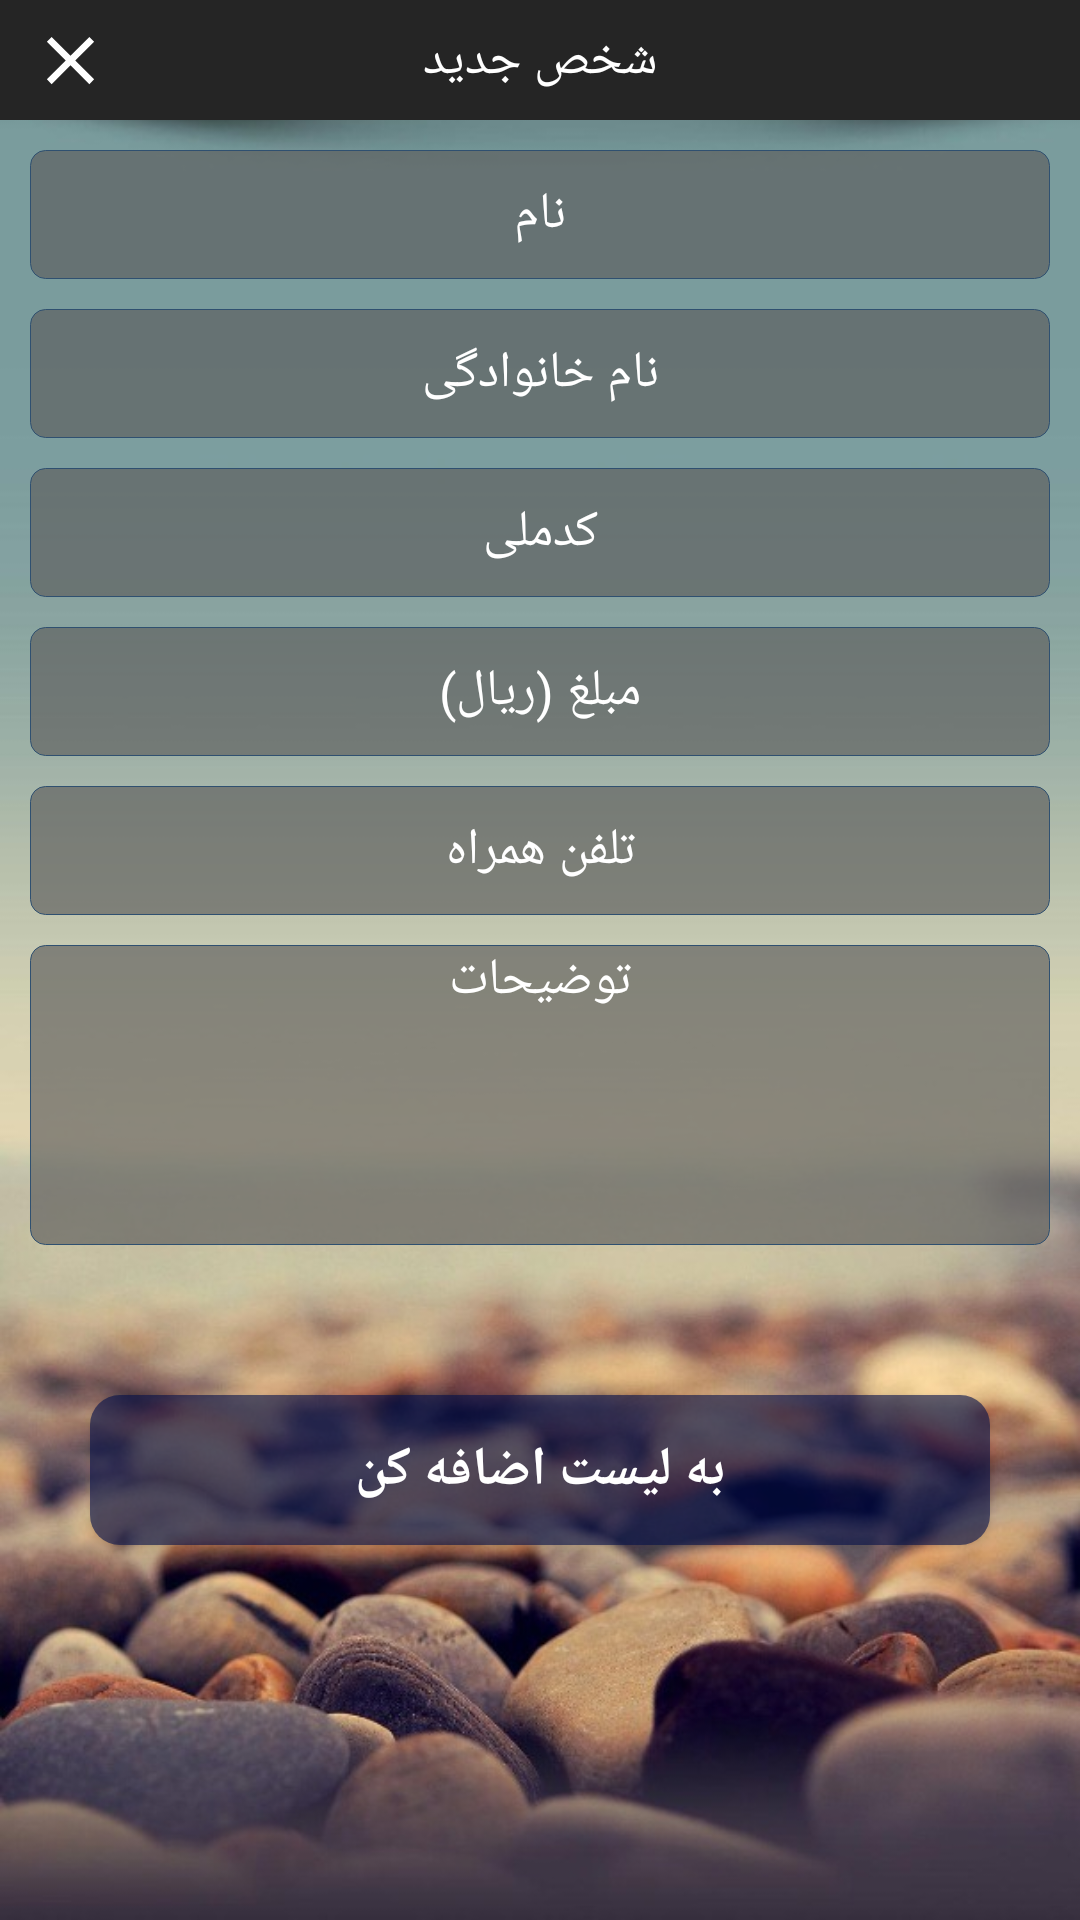

Point at icon controls on the screen. Image size 1080x1920, points as (x,y).
close dialog: (70,60)
